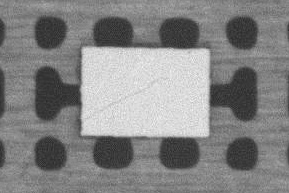DIE_CRACK: (83, 76, 166, 123)
